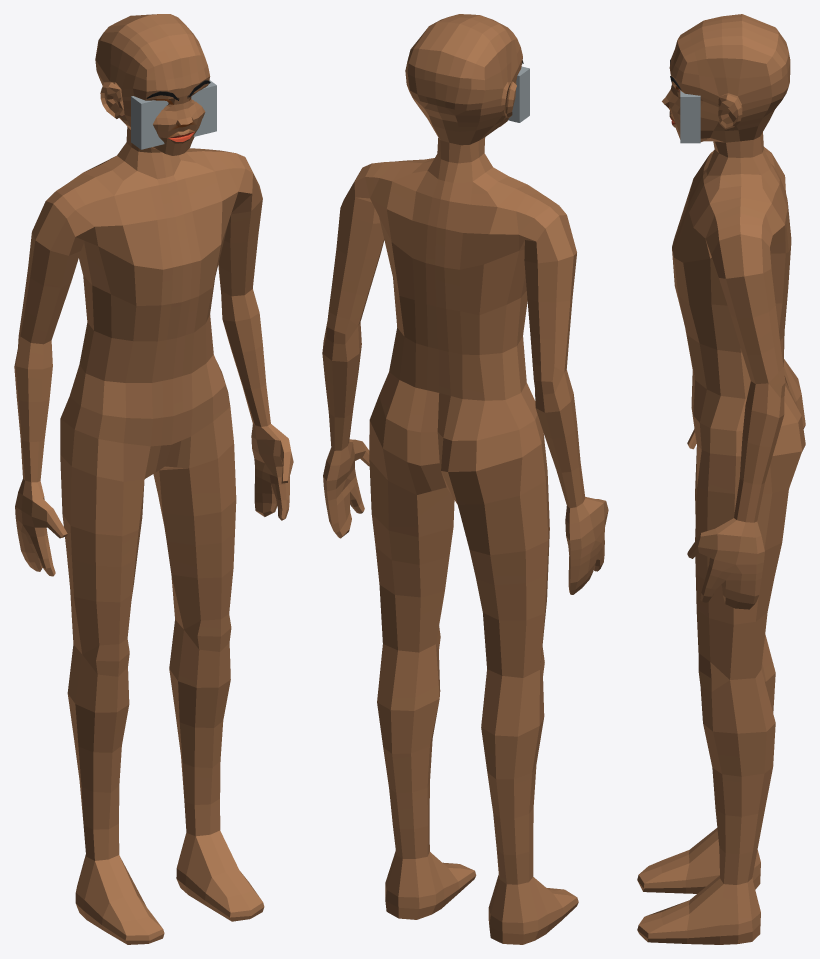
Rendered from Male_Stand_Mask.fbx.
The picture shows the model from 3 angles, left to right: view 1: azimuth 30°, elevation 25°; view 2: azimuth 150°, elevation 25°; view 3: azimuth 270°, elevation 25°; orthographic projection. The views are drawn at different scales.
Parts seen in each view (by area): view 1: Male_Stand_Mask; view 2: Male_Stand_Mask; view 3: Male_Stand_Mask.
Part boxes in pixels (box(x1,y1,x2,y2)): Male_Stand_Mask: box(14, 14, 293, 944); Male_Stand_Mask: box(322, 14, 608, 944); Male_Stand_Mask: box(637, 14, 805, 944).
Size of the model in its own units: 0.3234 by 1.05 by 0.1809.
